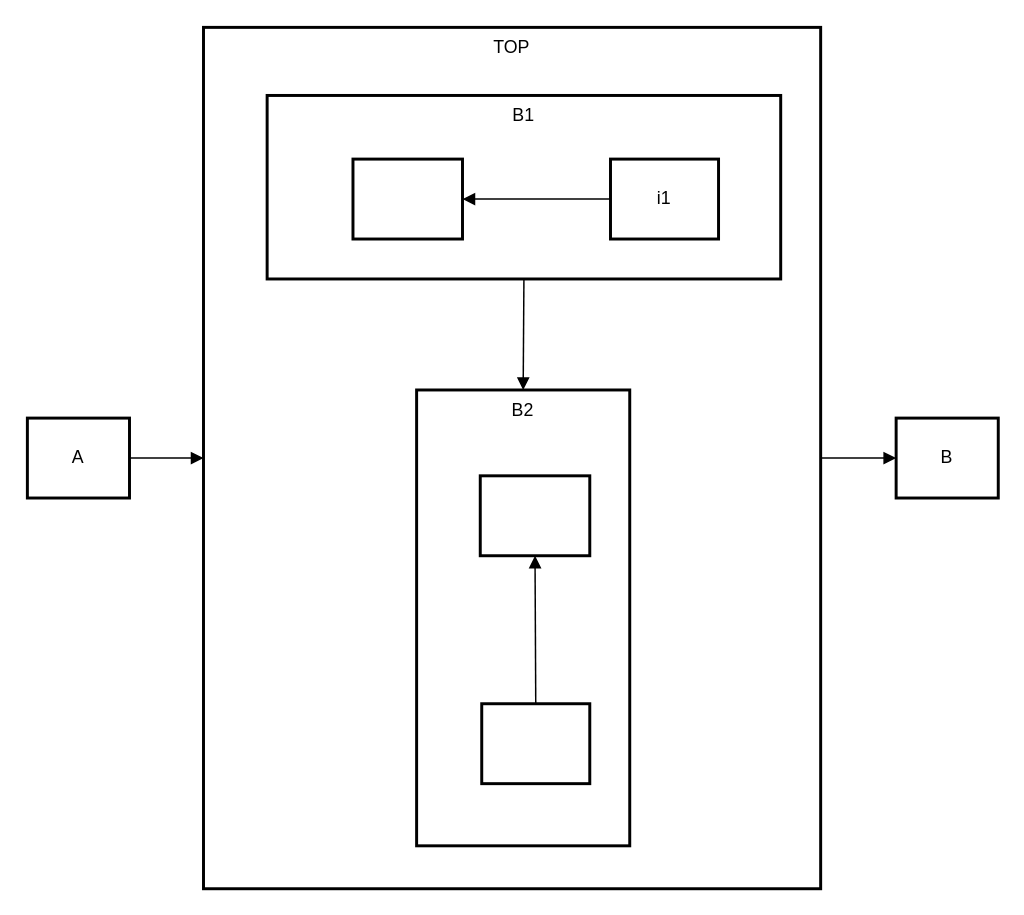
This 1024x915 diagram has some shape labels left out. Each missing label, with the centre of its shape:
f1: pixel 407 198
f2: pixel 534 515
i2: pixel 535 743
